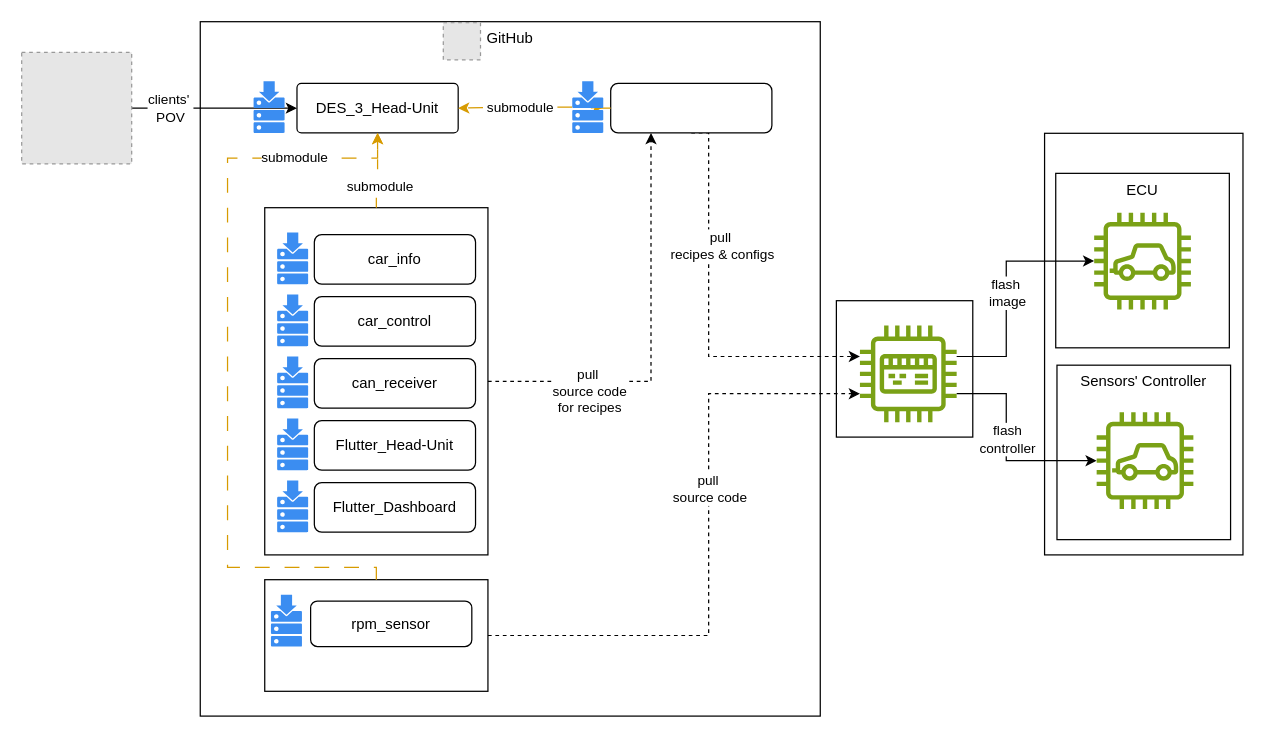
The diagram is 1265 pixels wide and 738 high, and some of its shapes have lost their labels. Grey dashed boxes stand in for pictures. Each missing label, with the box of its shape:
apps: (264, 206, 488, 555)
DES_3_yocto: (609, 82, 772, 133)
Industial PC: (835, 299, 973, 437)
sensors: (264, 578, 488, 691)
Target Device: (1043, 132, 1243, 555)
